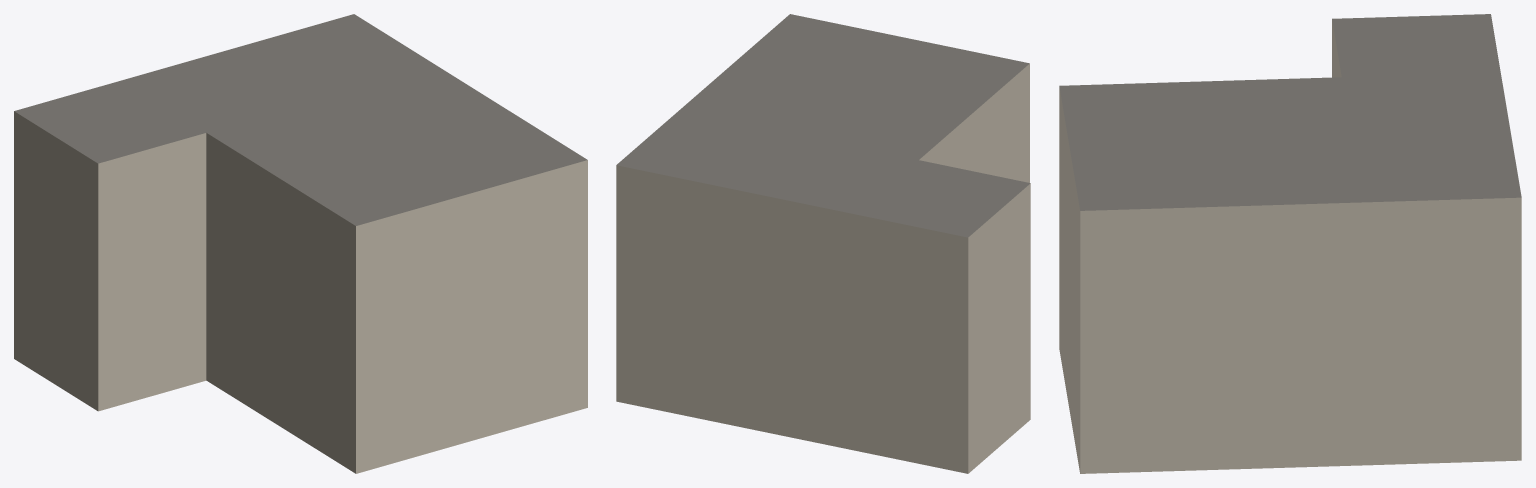
3 renders of one model, left to right at view 1: azimuth 30°, elevation 25°; view 2: azimuth 150°, elevation 25°; view 3: azimuth 270°, elevation 25°, orthographic. The views are drawn at different scales.
Parts seen in each view (by area): view 1: HP-w369317593; view 2: HP-w369317593; view 3: HP-w369317593.
Boxes of the visible parts, x1,y1,x2,y2 form: HP-w369317593: (14,14,587,473); HP-w369317593: (616,14,1030,473); HP-w369317593: (1059,14,1521,473).
Size of the model in its own units: 28.91 by 18 by 28.68.
